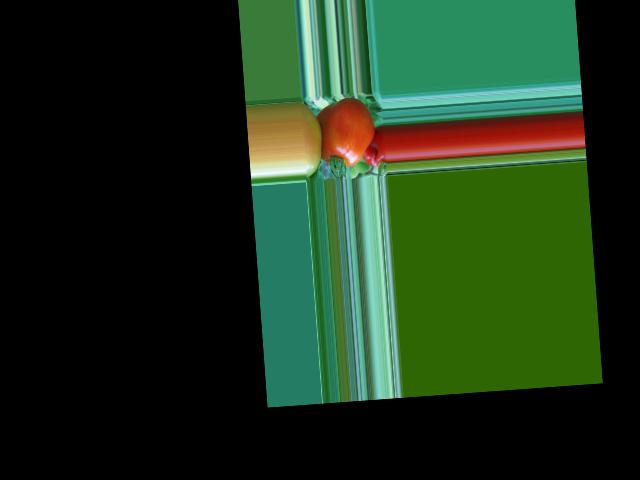tomato: (317, 96, 376, 168)
